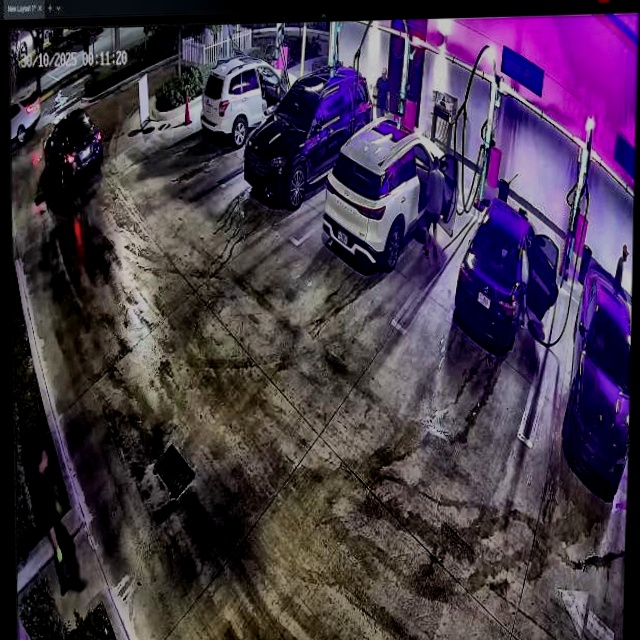Car: (323, 115, 455, 275), (245, 69, 374, 207), (453, 198, 559, 345)
